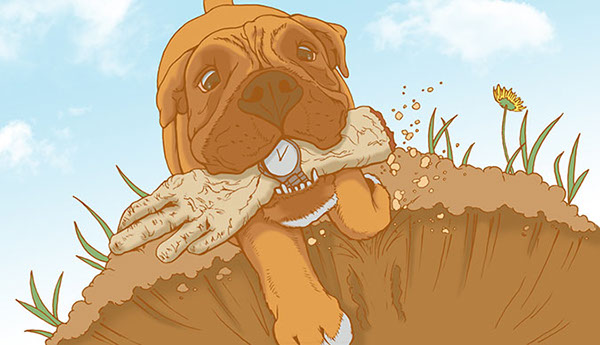dog: (143, 3, 402, 345)
